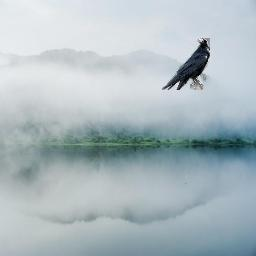Crow: (162, 38, 210, 90)
